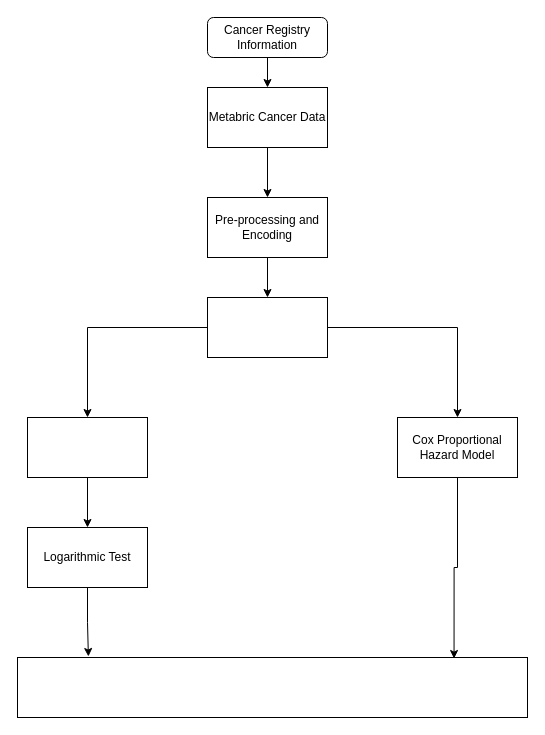
The diagram is 545 pixels wide and 735 high, and some of its shapes have lost their labels. Each missing label, with the centre of its shape:
"Correlation Analysis" belongs at pixel 267 327.
"Kaplan Meier Survival Analysis" belongs at pixel 87 447.
"Result Analysis" belongs at pixel 272 687.
